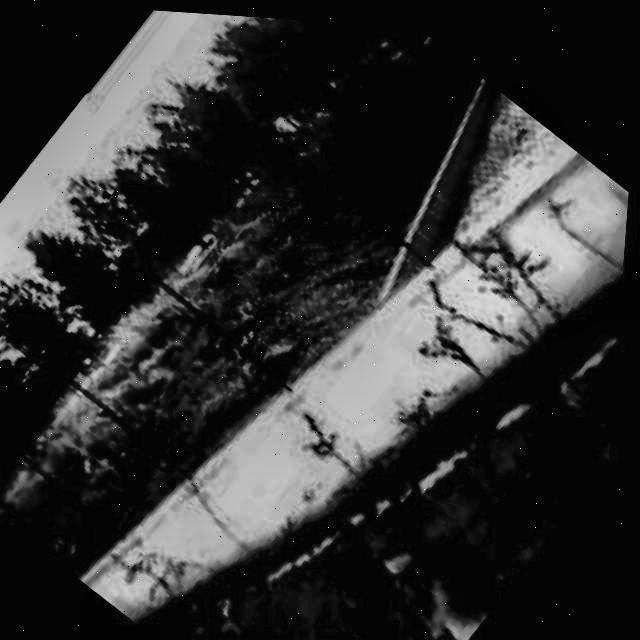Fire: (374, 559, 500, 640)
